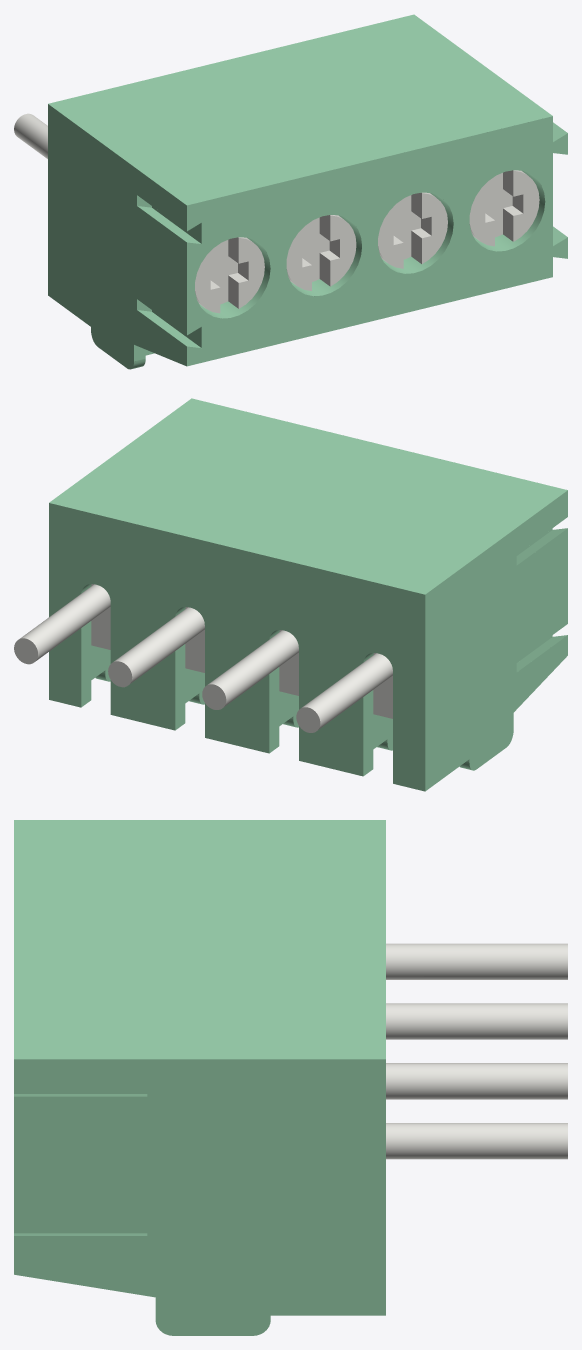
File: TerminalBlock_Phoenix_PT-1,5-4-3.5-H_1x04_P3.50mm_Horizontal.glb
3 views of the same model, one above another, from view 1: azimuth 30°, elevation 25°; view 2: azimuth 150°, elevation 25°; view 3: azimuth 270°, elevation 25° (orthographic). The views are drawn at different scales.
Parts seen in each view (by area): view 1: Shape_IndexedFaceSet.002, Shape_IndexedFaceSet.029, Shape_IndexedFaceSet.001, Shape_IndexedFaceSet.168, Shape_IndexedFaceSet.189, Shape_IndexedFaceSet.175, Shape_IndexedFaceSet.182, Shape_IndexedFaceSet.172, Shape_IndexedFaceSet.186, Shape_IndexedFaceSet.179, Shape_IndexedFaceSet.193, Shape_IndexedFaceSet.107 (+10 smaller); view 2: Shape_IndexedFaceSet, Shape_IndexedFaceSet.002, Shape_IndexedFaceSet.001, Shape_IndexedFaceSet.102, Shape_IndexedFaceSet.097, Shape_IndexedFaceSet.107, Shape_IndexedFaceSet.092, Shape_IndexedFaceSet.005, Shape_IndexedFaceSet.011, Shape_IndexedFaceSet.017, Shape_IndexedFaceSet.023, Shape_IndexedFaceSet.054 (+11 smaller); view 3: Shape_IndexedFaceSet.002, Shape_IndexedFaceSet.003, Shape_IndexedFaceSet.092, Shape_IndexedFaceSet.097, Shape_IndexedFaceSet.102, Shape_IndexedFaceSet.107, Shape_IndexedFaceSet.078, Shape_IndexedFaceSet.077.
Part boxes in pixels (x1=…): Shape_IndexedFaceSet.002: x1=48, y1=14, x2=552, y2=205; Shape_IndexedFaceSet.029: x1=187, y1=116, x2=567, y2=366; Shape_IndexedFaceSet.001: x1=48, y1=104, x2=186, y2=369; Shape_IndexedFaceSet.168: x1=238, y1=238, x2=264, y2=308; Shape_IndexedFaceSet.189: x1=513, y1=170, x2=539, y2=241; Shape_IndexedFaceSet.175: x1=330, y1=215, x2=356, y2=286; Shape_IndexedFaceSet.182: x1=422, y1=193, x2=447, y2=263; Shape_IndexedFaceSet.172: x1=195, y1=244, x2=220, y2=313; Shape_IndexedFaceSet.186: x1=378, y1=199, x2=403, y2=268; Shape_IndexedFaceSet.179: x1=286, y1=221, x2=311, y2=290; Shape_IndexedFaceSet.193: x1=469, y1=176, x2=494, y2=246; Shape_IndexedFaceSet.107: x1=14, y1=113, x2=47, y2=158; Shape_IndexedFaceSet: x1=49, y1=503, x2=425, y2=791; Shape_IndexedFaceSet.002: x1=49, y1=398, x2=567, y2=594; Shape_IndexedFaceSet.001: x1=425, y1=490, x2=567, y2=791; Shape_IndexedFaceSet.102: x1=208, y1=630, x2=298, y2=706; Shape_IndexedFaceSet.097: x1=114, y1=607, x2=204, y2=683; Shape_IndexedFaceSet.107: x1=302, y1=653, x2=392, y2=729; Shape_IndexedFaceSet.092: x1=20, y1=584, x2=110, y2=661; Shape_IndexedFaceSet.005: x1=81, y1=621, x2=91, y2=707; Shape_IndexedFaceSet.011: x1=175, y1=644, x2=185, y2=730; Shape_IndexedFaceSet.017: x1=269, y1=667, x2=279, y2=753; Shape_IndexedFaceSet.023: x1=363, y1=690, x2=373, y2=776; Shape_IndexedFaceSet.054: x1=91, y1=584, x2=110, y2=649; Shape_IndexedFaceSet.002: x1=14, y1=820, x2=385, y2=1059; Shape_IndexedFaceSet.003: x1=14, y1=1059, x2=385, y2=1335; Shape_IndexedFaceSet.092: x1=386, y1=1123, x2=567, y2=1159; Shape_IndexedFaceSet.097: x1=386, y1=1063, x2=567, y2=1099; Shape_IndexedFaceSet.102: x1=386, y1=1003, x2=567, y2=1039; Shape_IndexedFaceSet.107: x1=386, y1=943, x2=567, y2=979; Shape_IndexedFaceSet.078: x1=14, y1=1096, x2=147, y2=1125; Shape_IndexedFaceSet.077: x1=14, y1=1236, x2=147, y2=1264.
Size of the model in its own units: 5.74 by 2.97 by 5.39.
